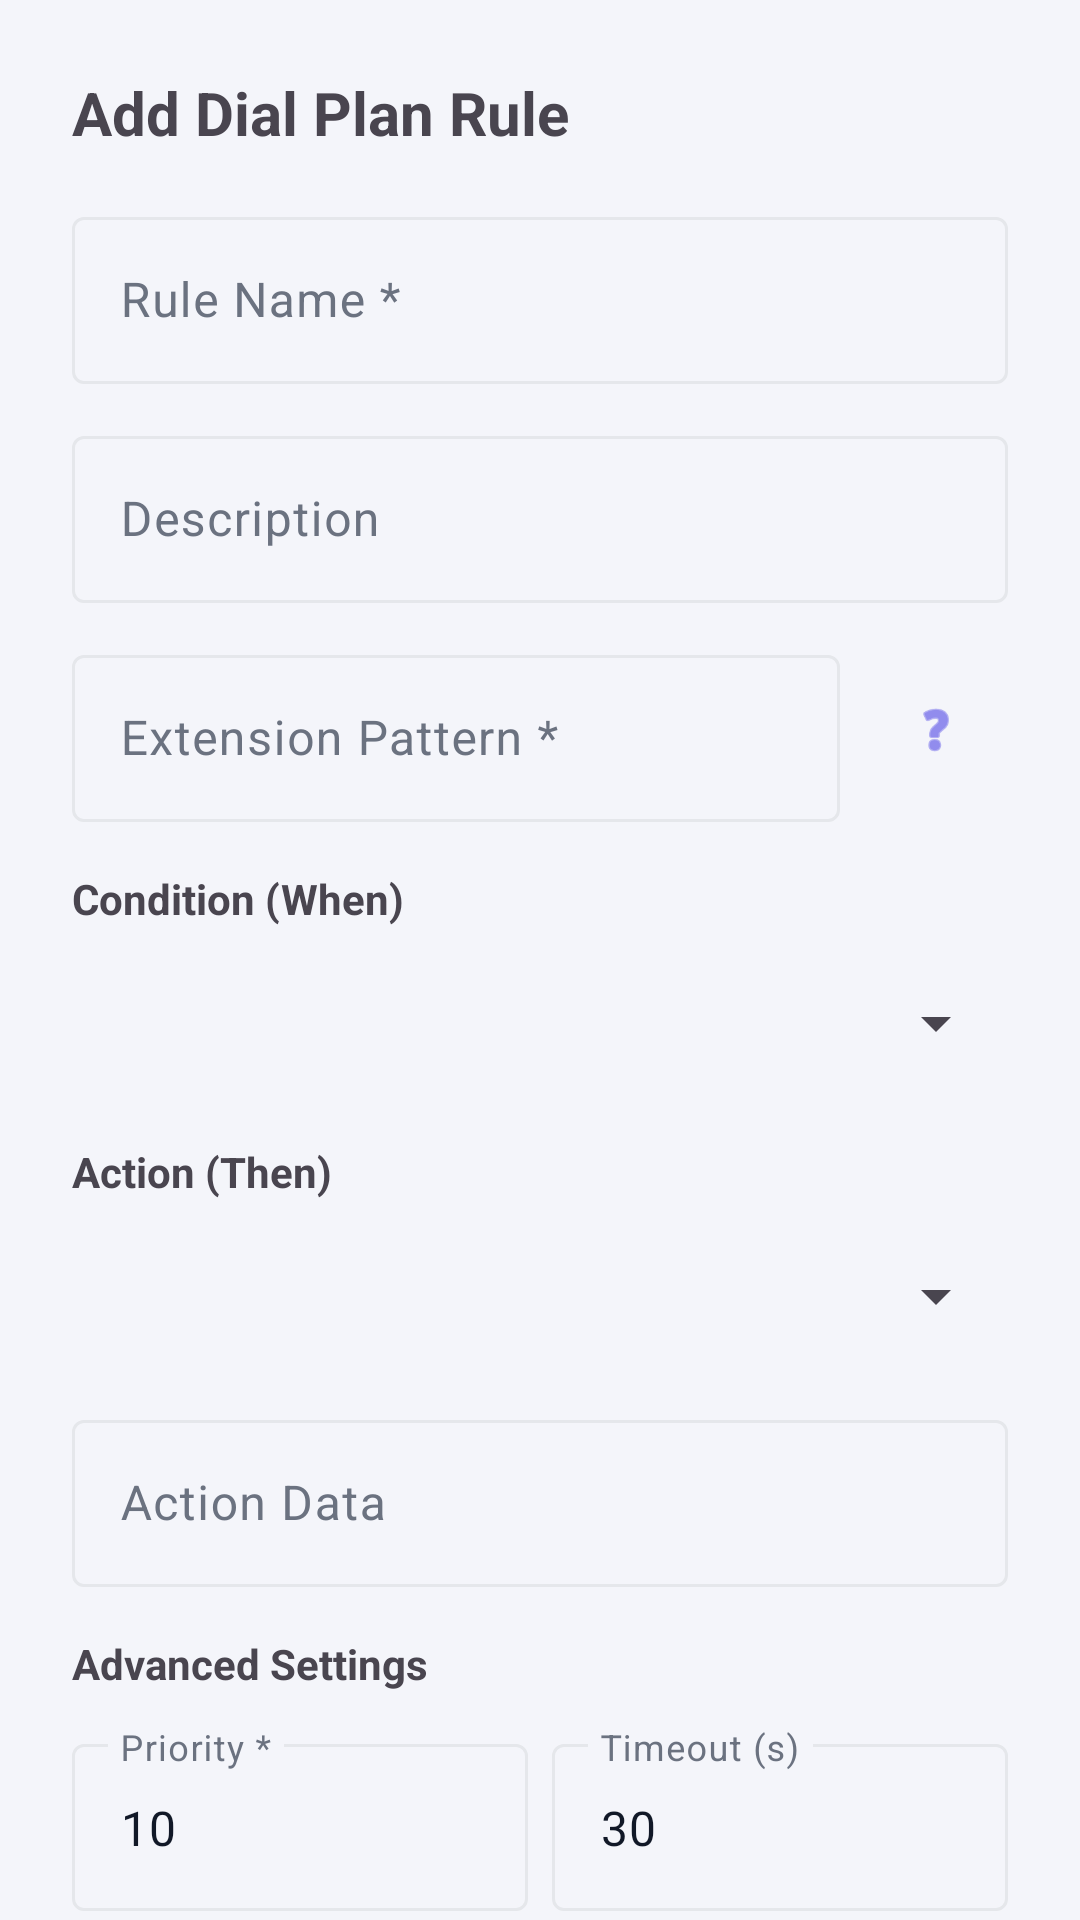

Named icons in this screenshot (1080x1920) and their bounding boxes, (x1=x1, y1=y1, x2=x2, y2=y2):
Pattern help: (x1=923, y1=709, x2=949, y2=751)
